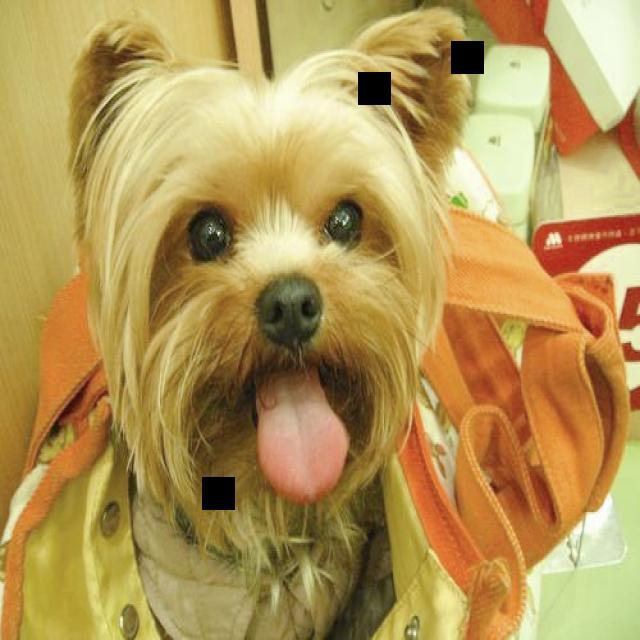adult_dog: (71, 3, 480, 640)
